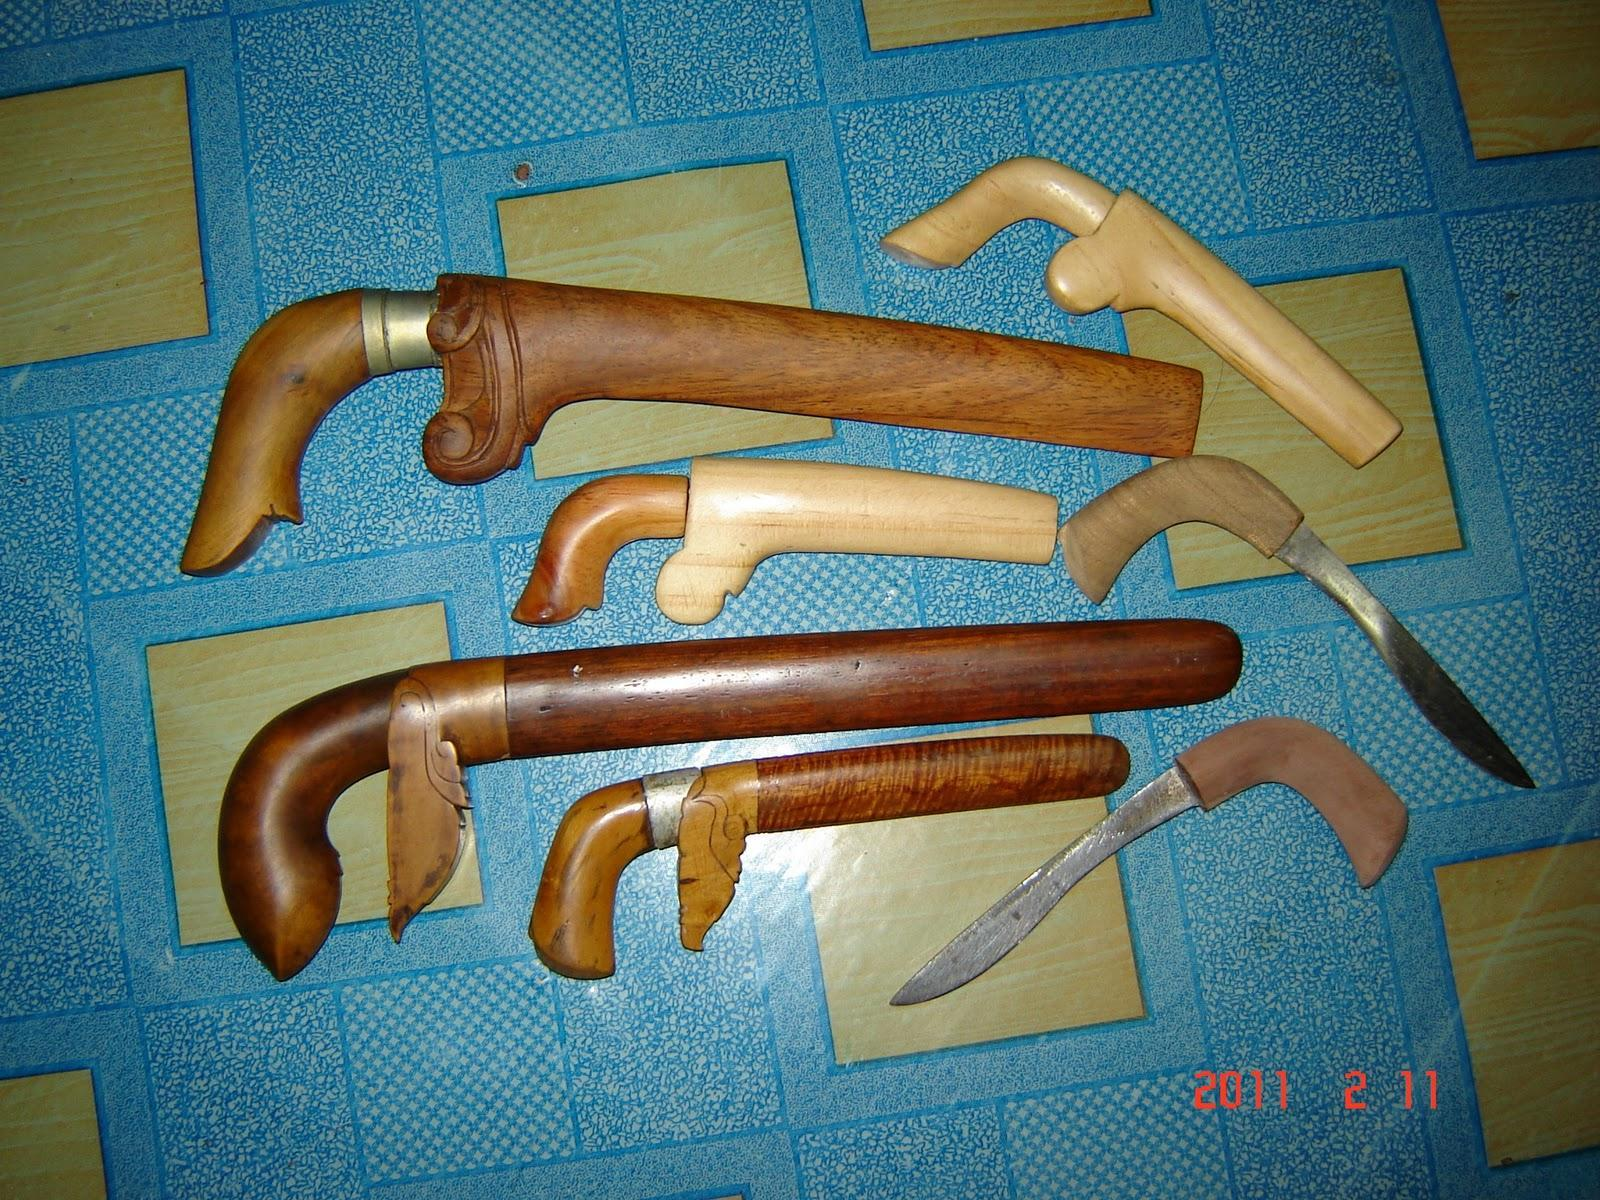facao: (168, 596, 1285, 1006), (144, 224, 1245, 582), (1013, 391, 1594, 836), (876, 650, 1477, 1050), (879, 106, 1431, 500), (529, 706, 1145, 1015), (467, 440, 1095, 650)
